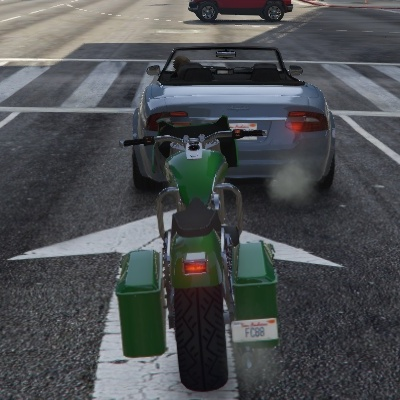on: (180, 250, 210, 276)
